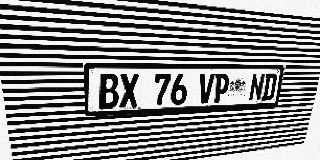6: (170, 73, 189, 105)
7: (153, 73, 171, 106)
B: (98, 74, 119, 109)
D: (261, 73, 278, 101)
N: (248, 73, 265, 101)
P: (212, 73, 230, 103)
V: (197, 73, 215, 104)
X: (120, 73, 139, 108)
